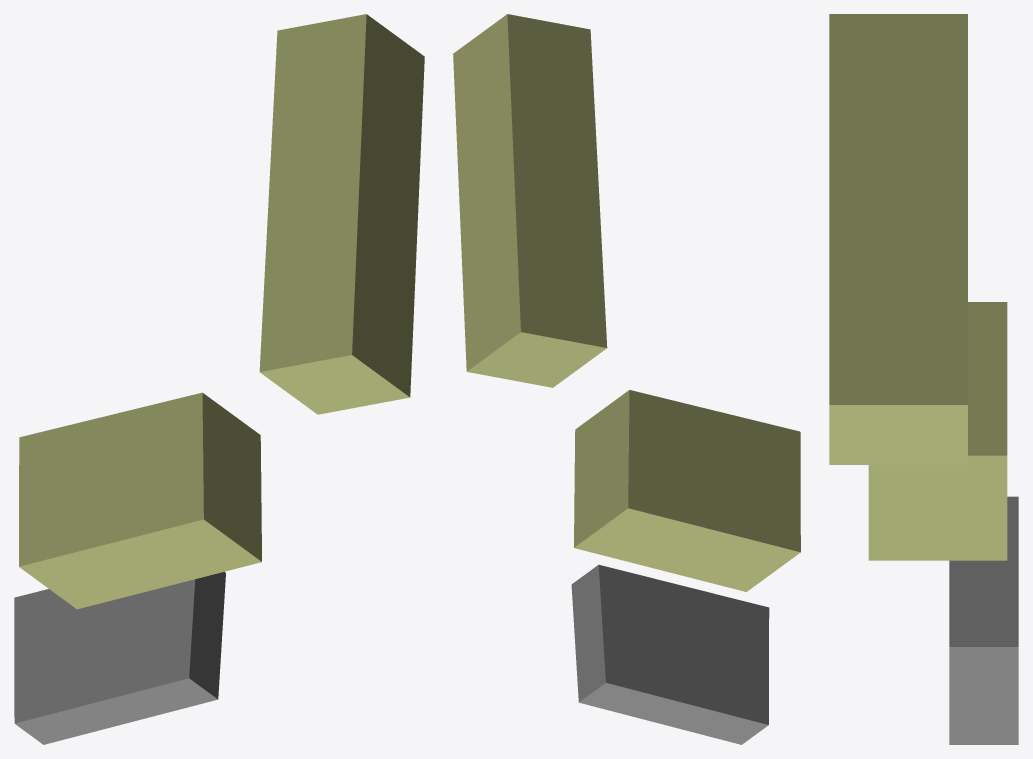
The picture shows the model from 3 angles, left to right: view 1: azimuth 30°, elevation 25°; view 2: azimuth 150°, elevation 25°; view 3: azimuth 270°, elevation 25°; orthographic projection. The views are drawn at different scales.
Visible parts, largest first — view 1: 0_2_0_1_1_2_1_2_2; view 2: 0_2_0_1_1_2_1_2_2; view 3: 0_2_0_1_1_2_1_2_2.
Boxes of the visible parts, left/top/right/bottom form: 0_2_0_1_1_2_1_2_2: left=14, top=14, right=424, bottom=744; 0_2_0_1_1_2_1_2_2: left=453, top=14, right=800, bottom=744; 0_2_0_1_1_2_1_2_2: left=829, top=14, right=1018, bottom=744.
Bounding box in the file's own units: 19.7 × 36.94 × 8.2.
